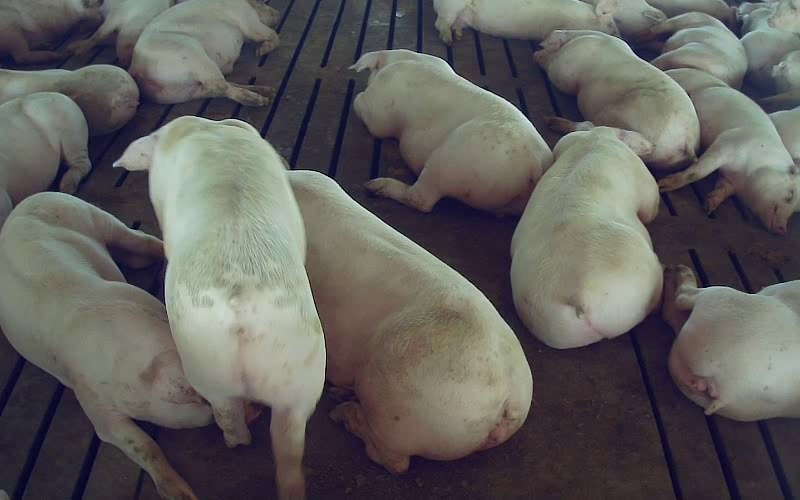pig: (116, 117, 325, 499), (289, 171, 531, 472), (0, 192, 211, 499), (511, 122, 662, 347), (350, 49, 552, 213), (535, 30, 699, 170), (660, 68, 799, 233), (663, 265, 799, 420), (129, 0, 279, 105), (0, 92, 90, 228), (0, 65, 138, 135), (639, 12, 747, 88), (434, 0, 618, 43), (0, 0, 101, 63)
